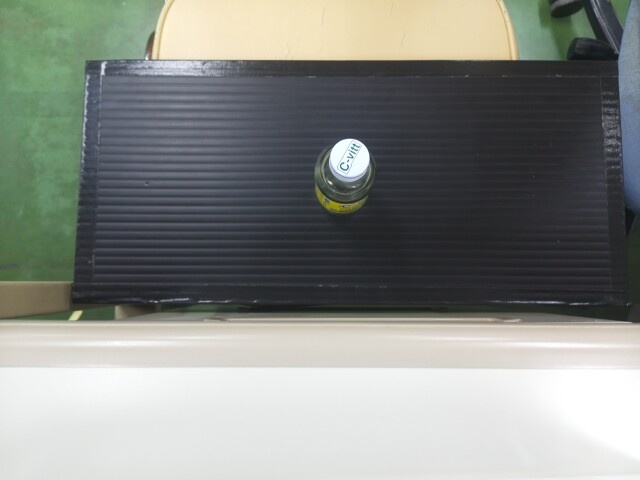glass_bottle: (314, 138, 372, 216)
